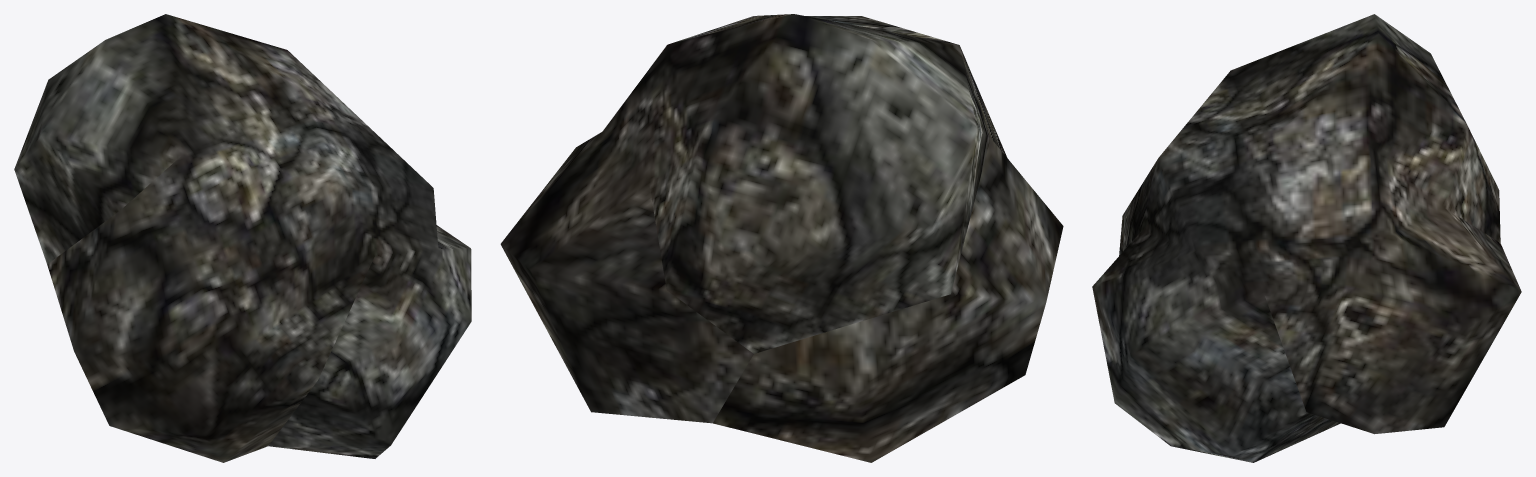
File: Rock6.fbx
The picture shows the model from 3 angles, left to right: view 1: azimuth 30°, elevation 25°; view 2: azimuth 150°, elevation 25°; view 3: azimuth 270°, elevation 25°; orthographic projection. The views are drawn at different scales.
Visible parts, largest first — view 1: Rock6; view 2: Rock6; view 3: Rock6.
Part boxes in pixels (<box>): Rock6: <box>14,14,471,462</box>; Rock6: <box>500,14,1063,462</box>; Rock6: <box>1092,14,1521,462</box>.
Size of the model in its own units: 8.17 by 8.49 by 9.02.
